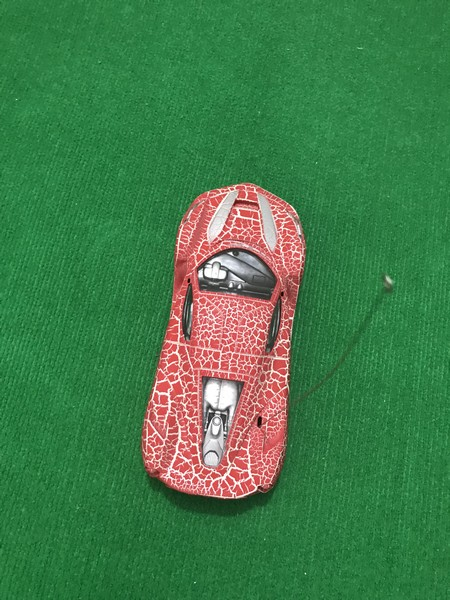RC: (137, 181, 308, 501)
